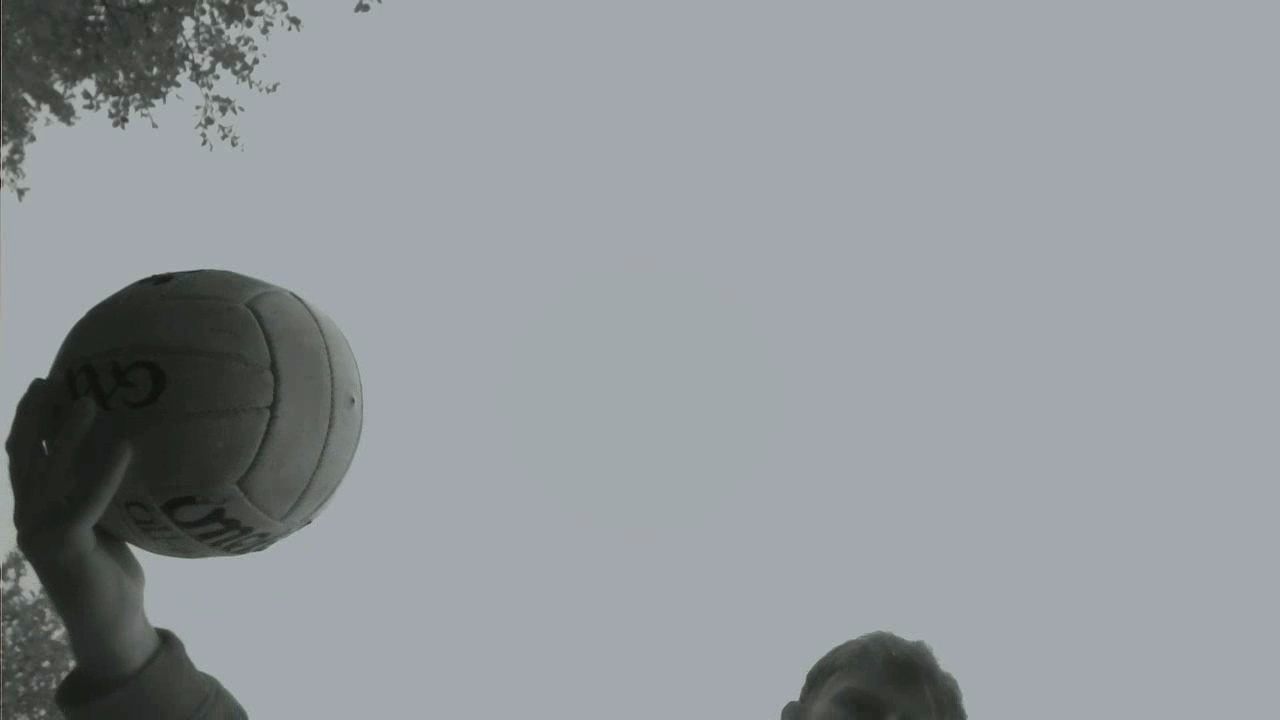Football-Spotter: (46, 270, 360, 557)
